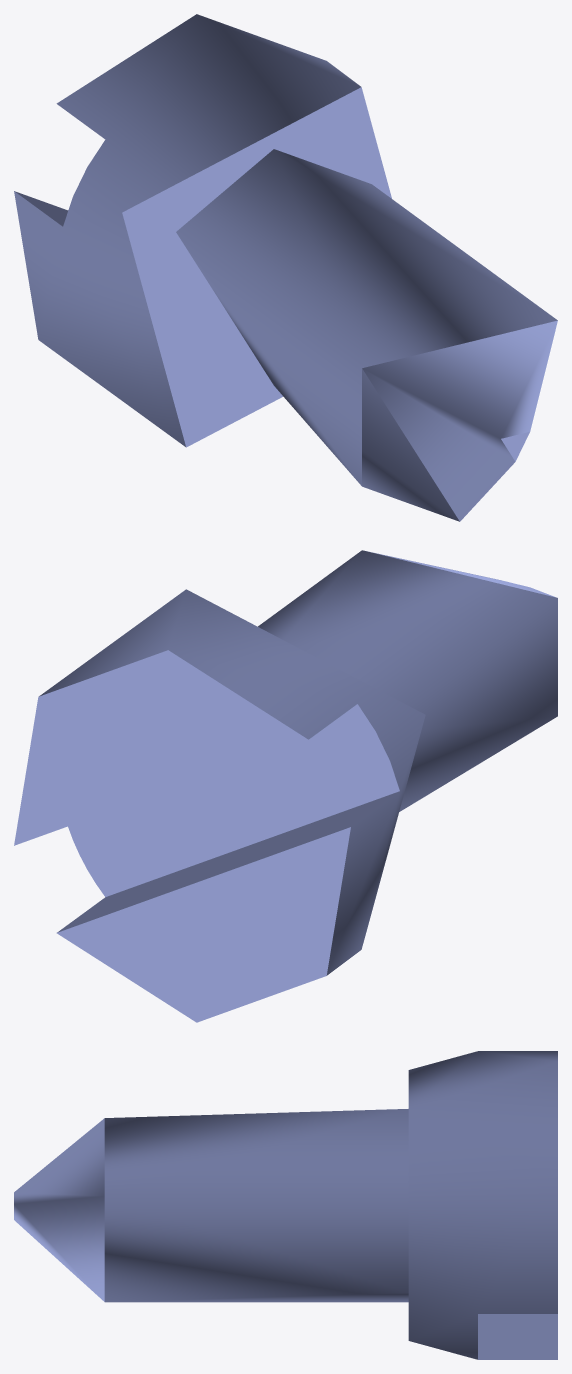
The model's file is Copie de Vis L 10^Copie de Assemb_Guide_cremaillere_Copie de ASS pilier 4_Horloge Comtoise Verge - Sonnerie.obj.
3 views of the same model, one above another, from view 1: azimuth 30°, elevation 25°; view 2: azimuth 150°, elevation 25°; view 3: azimuth 270°, elevation 25° (orthographic). The views are drawn at different scales.
Visible parts, largest first — view 1: Face_1, Face_4, Face_2, Face_3; view 2: Face_1, Face_6, Face_7, Face_4, Face_10, Face_9; view 3: Face_1, Face_4, Face_3, Face_9.
Boxes of the visible parts, x1=… form: Face_1: x1=176, y1=149, x2=557, y2=521; Face_4: x1=14, y1=14, x2=360, y2=446; Face_2: x1=122, y1=87, x2=391, y2=447; Face_3: x1=362, y1=320, x2=557, y2=521; Face_1: x1=258, y1=550, x2=557, y2=811; Face_6: x1=14, y1=650, x2=308, y2=845; Face_7: x1=56, y1=827, x2=350, y2=1022; Face_4: x1=39, y1=589, x2=425, y2=975; Face_10: x1=68, y1=704, x2=399, y2=896; Face_9: x1=57, y1=791, x2=399, y2=932; Face_1: x1=104, y1=1109, x2=408, y2=1302; Face_4: x1=408, y1=1051, x2=557, y2=1359; Face_3: x1=14, y1=1118, x2=104, y2=1301; Face_9: x1=478, y1=1314, x2=557, y2=1359.
Bounding box in the file's own units: 0.00298 × 0.00309 × 0.0051.
